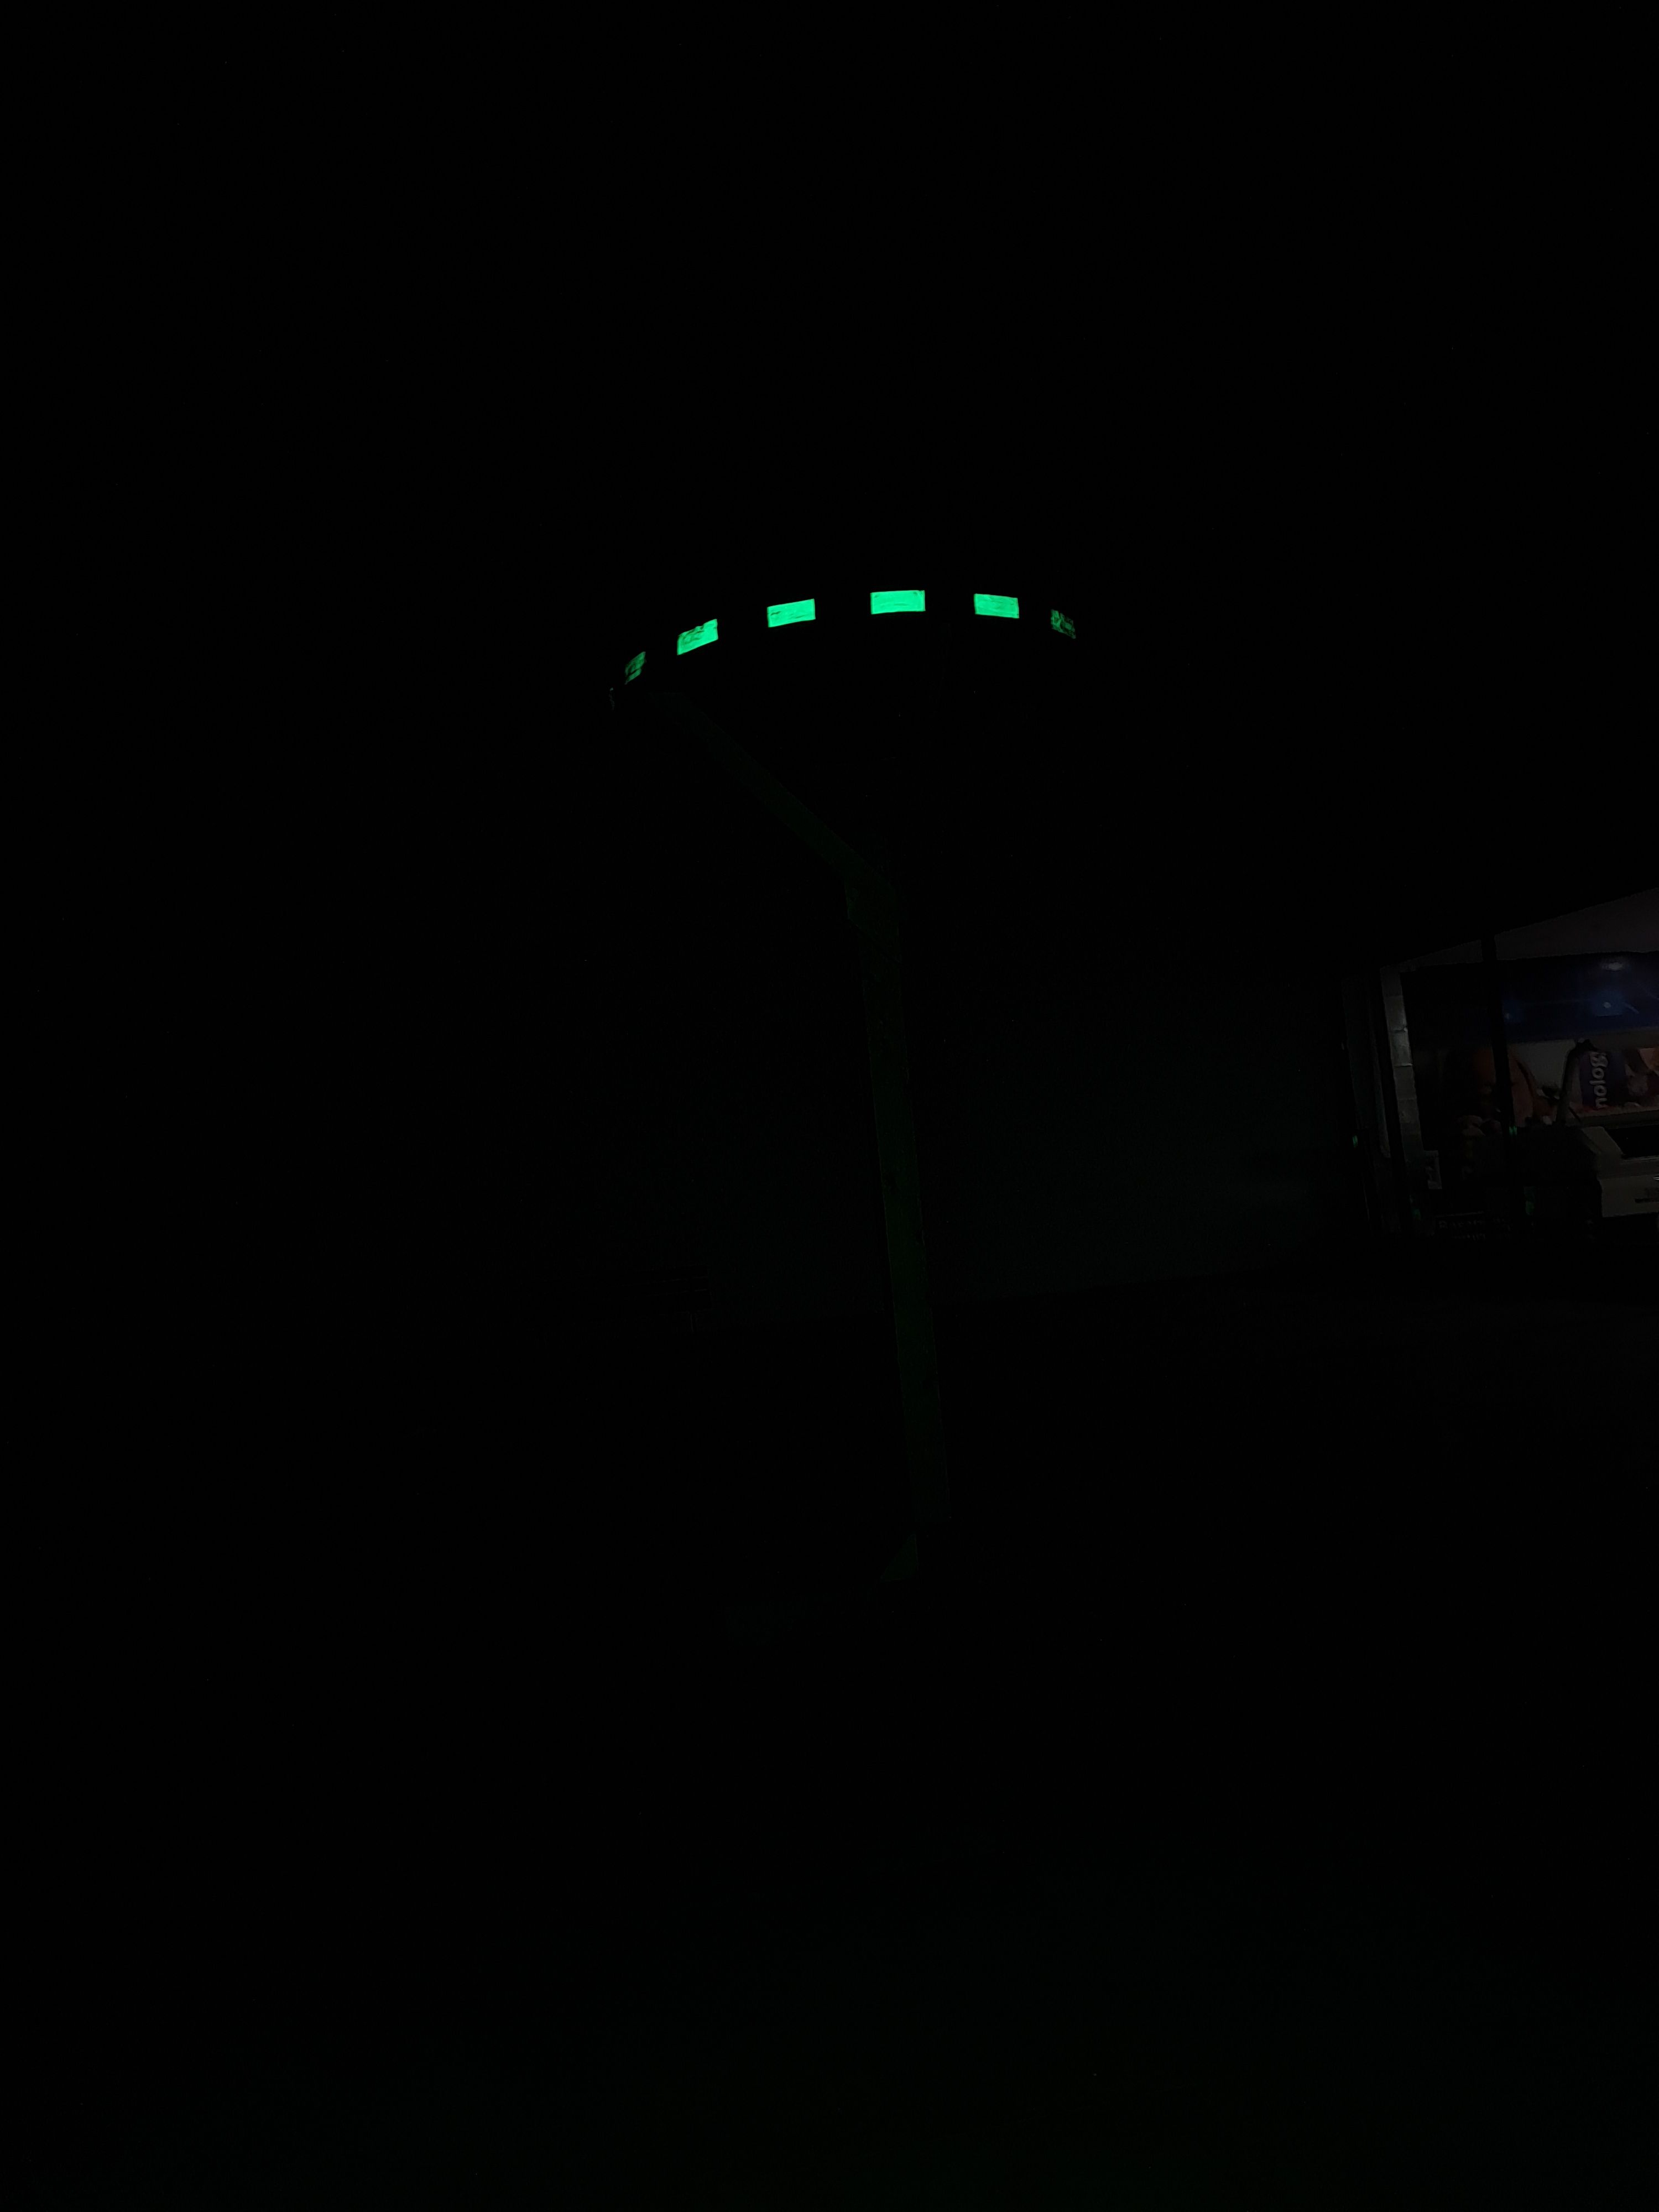hoop: (589, 577, 1112, 698)
